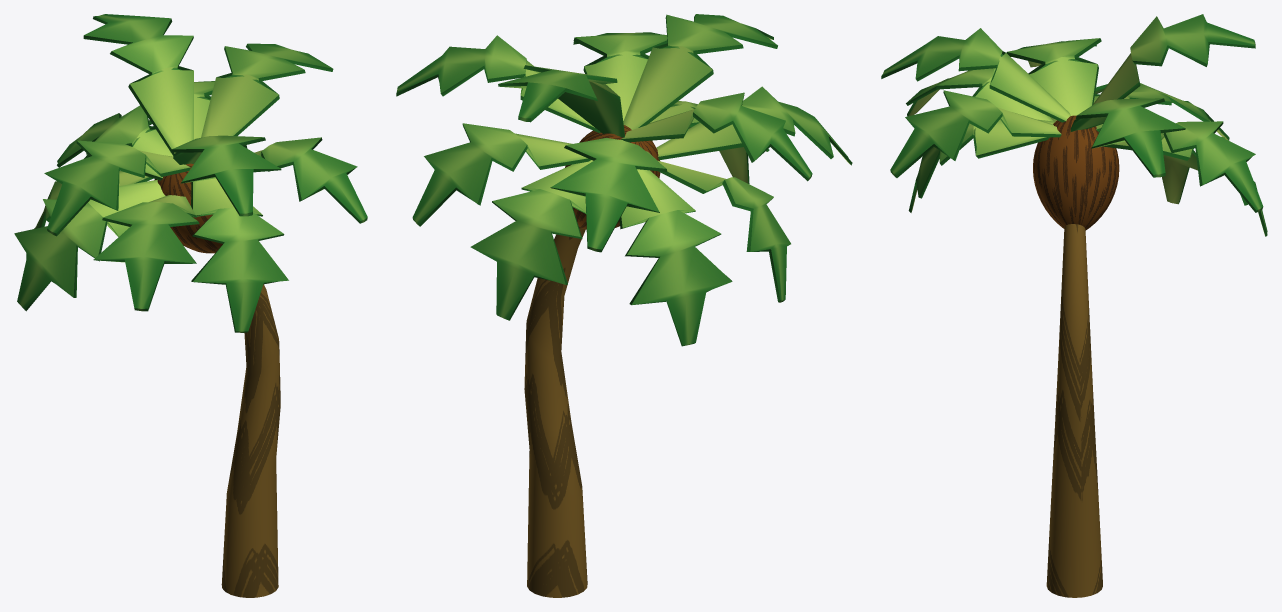
File: tree.fbx
The picture shows the model from 3 angles, left to right: view 1: azimuth 30°, elevation 25°; view 2: azimuth 150°, elevation 25°; view 3: azimuth 270°, elevation 25°; orthographic projection. The views are drawn at different scales.
Visible parts, largest first — view 1: group2_pasted__pCube1; view 2: group2_pasted__pCube1; view 3: group2_pasted__pCube1.
Part boxes in pixels (x1,y1,x2,y2): group2_pasted__pCube1: [14, 14, 367, 597]; group2_pasted__pCube1: [396, 14, 852, 597]; group2_pasted__pCube1: [881, 14, 1267, 597].
Size of the model in its own units: 8.74 by 13.44 by 8.93.
3 materials, 3 textured.
